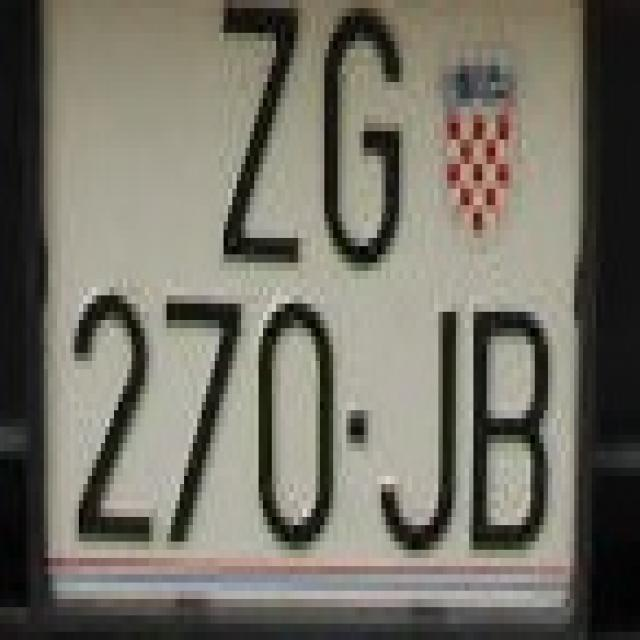0: (241, 296, 333, 566)
2: (61, 271, 158, 558)
7: (153, 295, 250, 558)
B: (469, 304, 552, 558)
G: (312, 0, 416, 279)
Z: (215, 0, 311, 279)
